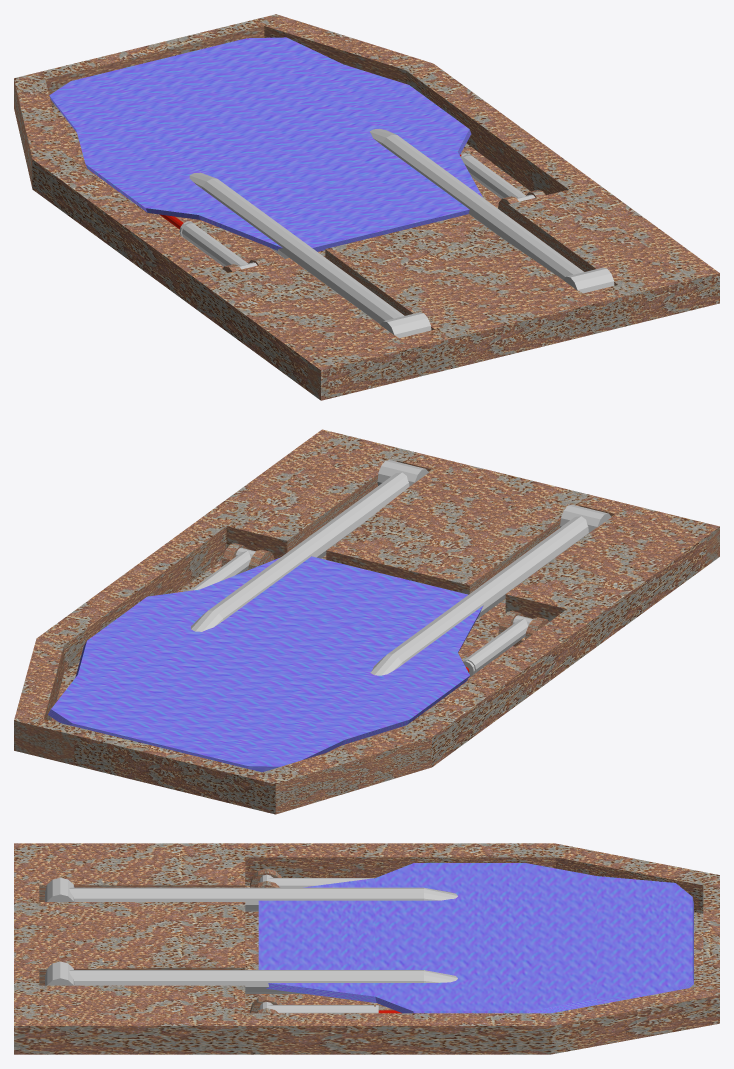
The model's file is Trampline.fbx.
3 renders of one model, top to bottom at view 1: azimuth 30°, elevation 25°; view 2: azimuth 150°, elevation 25°; view 3: azimuth 270°, elevation 25°, orthographic. The views are drawn at different scales.
Visible parts, largest first — view 1: Main, Platform, GasLifts; view 2: Main, Platform, GasLifts; view 3: Main, Platform, GasLifts.
Boxes of the visible parts, bbox=[...] form: Main: bbox=[14, 14, 719, 400]; Platform: bbox=[49, 37, 614, 338]; GasLifts: bbox=[179, 153, 535, 269]; Main: bbox=[14, 429, 719, 814]; Platform: bbox=[48, 460, 611, 772]; GasLifts: bbox=[189, 548, 532, 677]; Main: bbox=[14, 843, 719, 1054]; Platform: bbox=[45, 863, 693, 1013]; GasLifts: bbox=[259, 874, 378, 1013].
Size of the model in its own units: 164 by 15.29 by 267.
